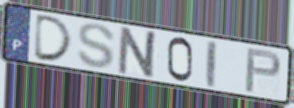0: (166, 36, 194, 83)
D: (32, 13, 75, 64)
I: (206, 38, 219, 90)
N: (115, 25, 161, 81)
P: (243, 47, 283, 95)
S: (76, 22, 118, 70)
